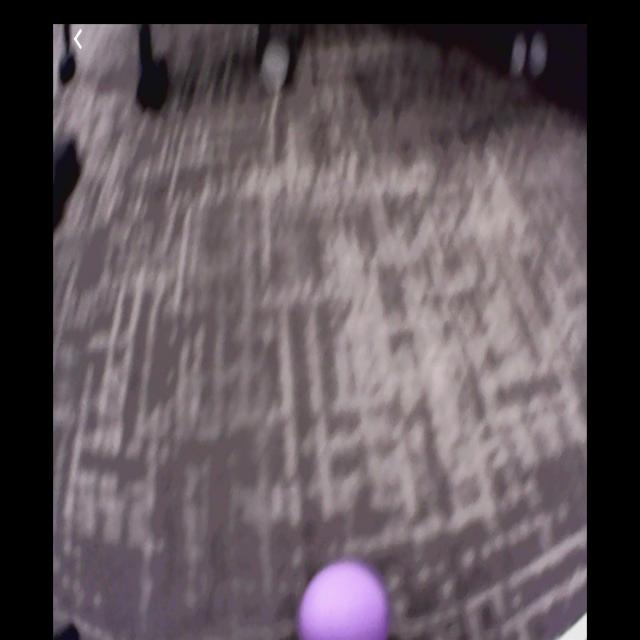ball: (299, 562, 387, 640)
